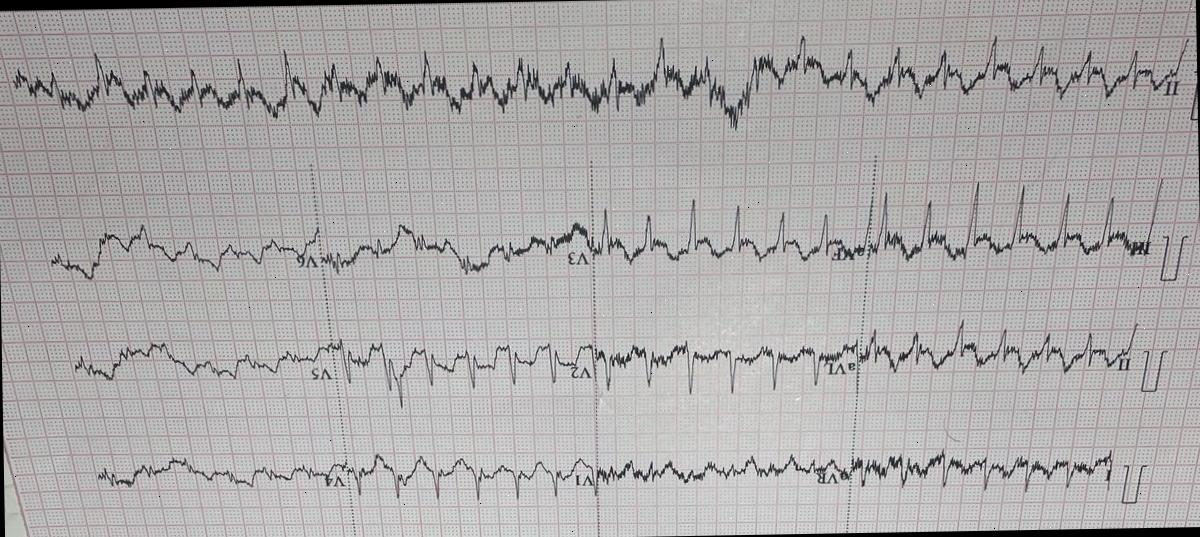Lead_I: (850, 422, 1119, 501)
Lead_II: (855, 307, 1144, 389)
Lead_III: (864, 158, 1166, 275)
Lead_II_ext: (8, 25, 1192, 146)
Lead_V1: (346, 432, 596, 514)
Lead_V2: (334, 308, 596, 412)
Lead_V3: (318, 186, 592, 293)
Lead_V4: (84, 426, 348, 525)
Lead_V5: (60, 320, 337, 407)
Lead_V6: (39, 214, 324, 293)
Lead_aVF: (590, 186, 869, 285)
Lead_aVL: (591, 314, 857, 404)
Lead_aVR: (595, 428, 854, 508)
